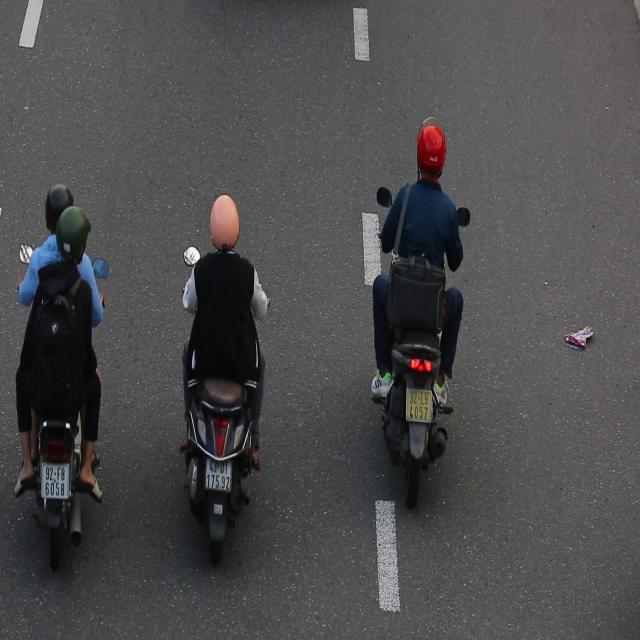motorbike: (371, 112, 476, 516), (12, 183, 112, 585), (176, 184, 274, 569)
